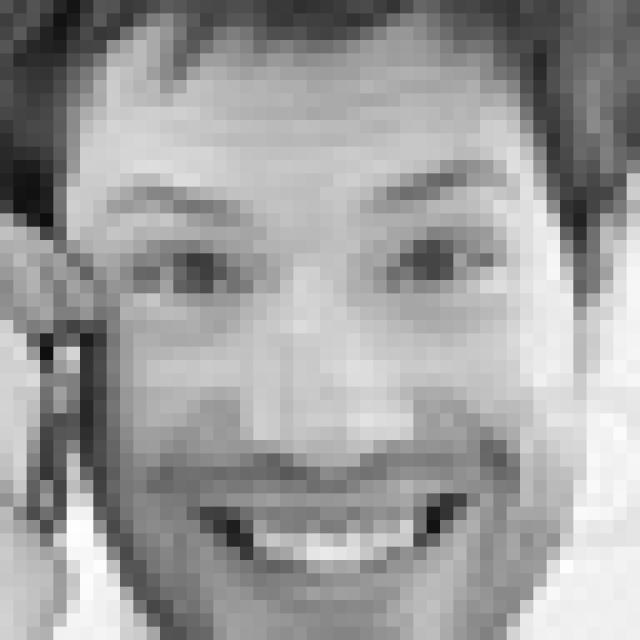happy: (96, 158, 521, 619)
